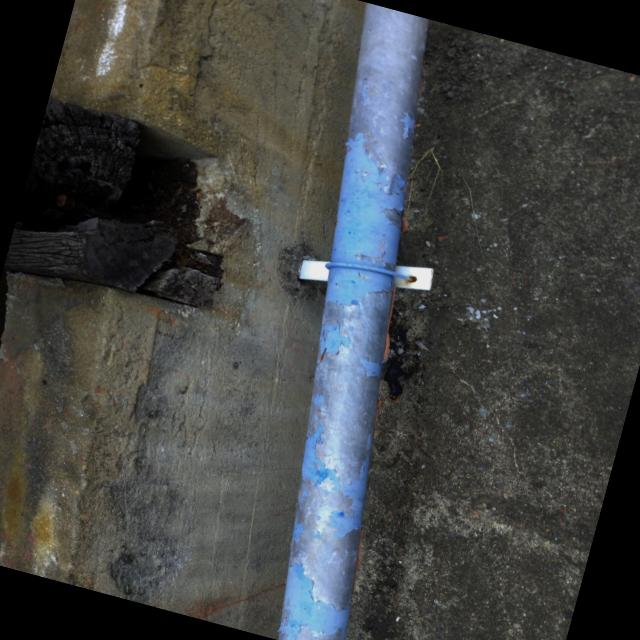gas: (197, 0, 506, 640)
